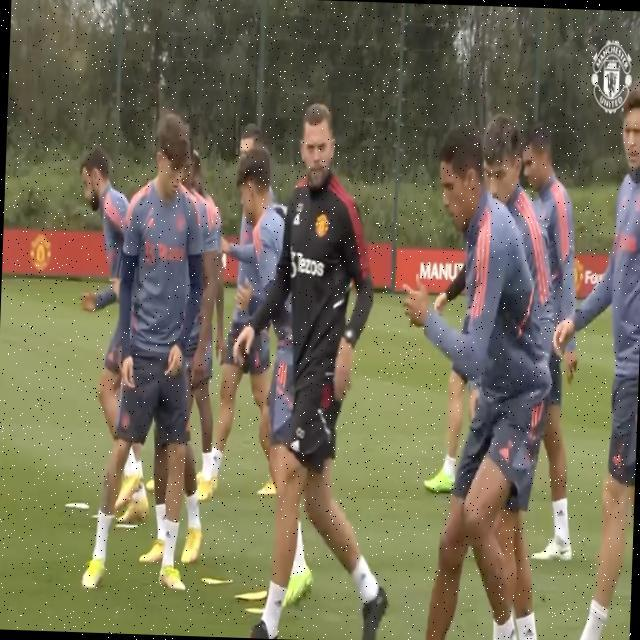Adidas: (496, 446, 510, 463), (612, 451, 625, 469), (291, 210, 302, 226), (524, 623, 535, 639)
